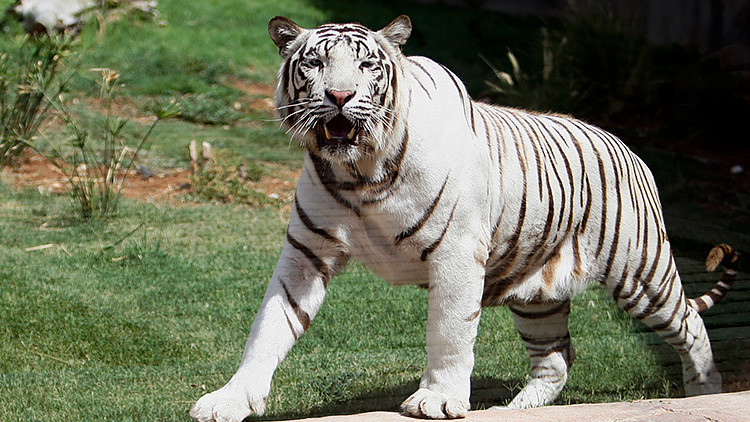Tigrew: (231, 10, 689, 385)
